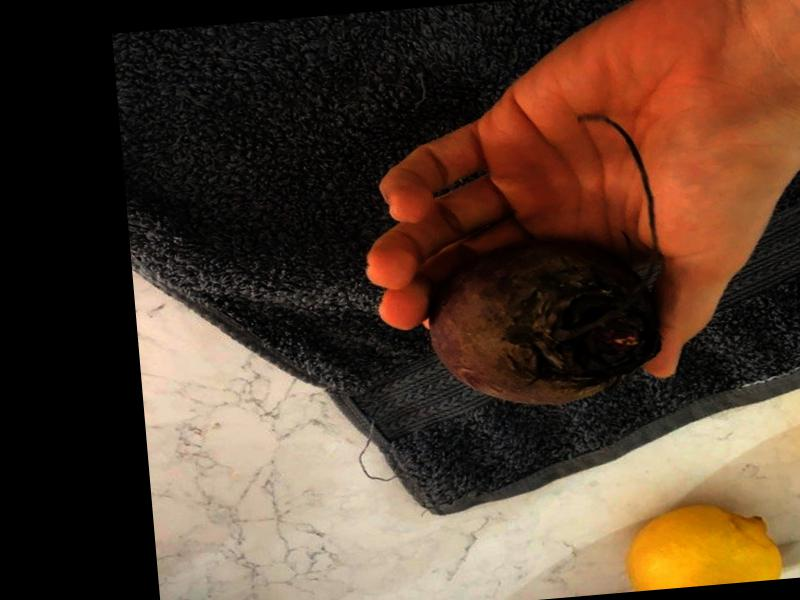Beet: (409, 110, 664, 415)
